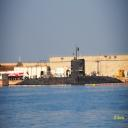submarine: (3, 57, 125, 87)
